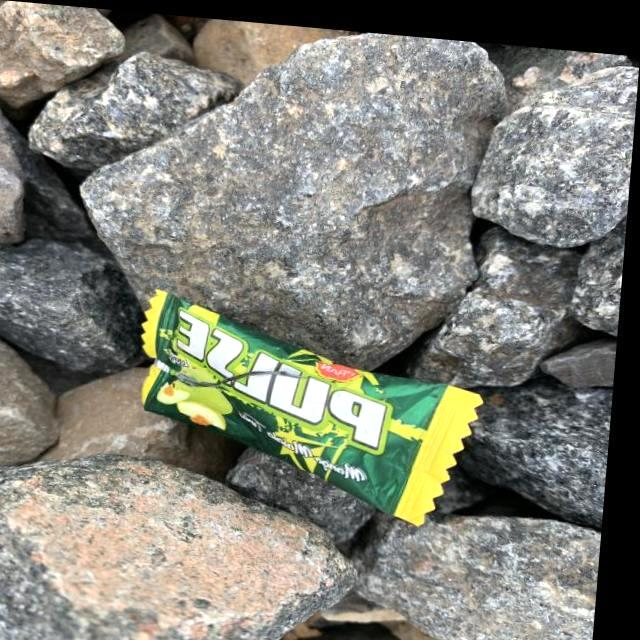packet: (116, 316, 480, 489)
